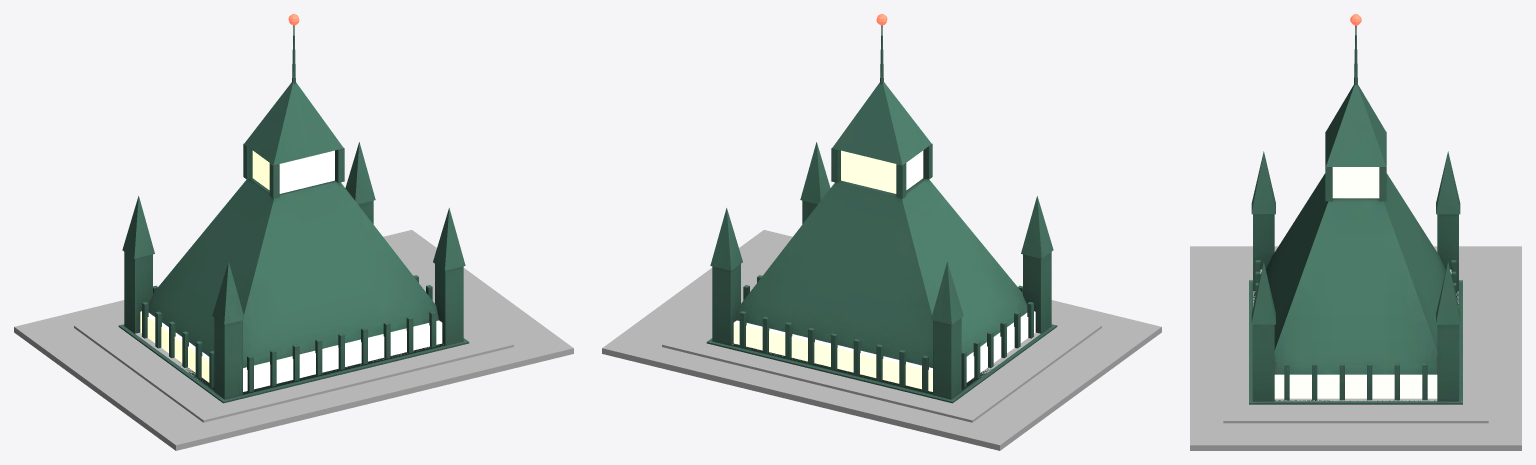
File: tower-brick.glb
3 renders of one model, left to right at view 1: azimuth 30°, elevation 25°; view 2: azimuth 150°, elevation 25°; view 3: azimuth 270°, elevation 25°, orthographic. The views are drawn at different scales.
Visible parts, largest first — view 1: Crown, Frame, Body, Glow; view 2: Crown, Frame, Body, Glow; view 3: Crown, Body, Frame, Glow.
Boxes of the visible parts, x1=… form: Crown: x1=118, y1=25, x2=469, y2=403; Frame: x1=78, y1=231, x2=569, y2=443; Body: x1=14, y1=230, x2=573, y2=450; Glow: x1=140, y1=150, x2=442, y2=391; Crown: x1=706, y1=25, x2=1057, y2=403; Frame: x1=606, y1=231, x2=1097, y2=443; Body: x1=602, y1=230, x2=1161, y2=450; Glow: x1=733, y1=150, x2=1035, y2=391; Crown: x1=1249, y1=25, x2=1462, y2=404; Body: x1=1190, y1=246, x2=1521, y2=450; Frame: x1=1193, y1=247, x2=1518, y2=419; Glow: x1=1260, y1=167, x2=1451, y2=398.
Bounding box in the file's own units: 44 × 34.74 × 31.
5 materials, 1 textured.
